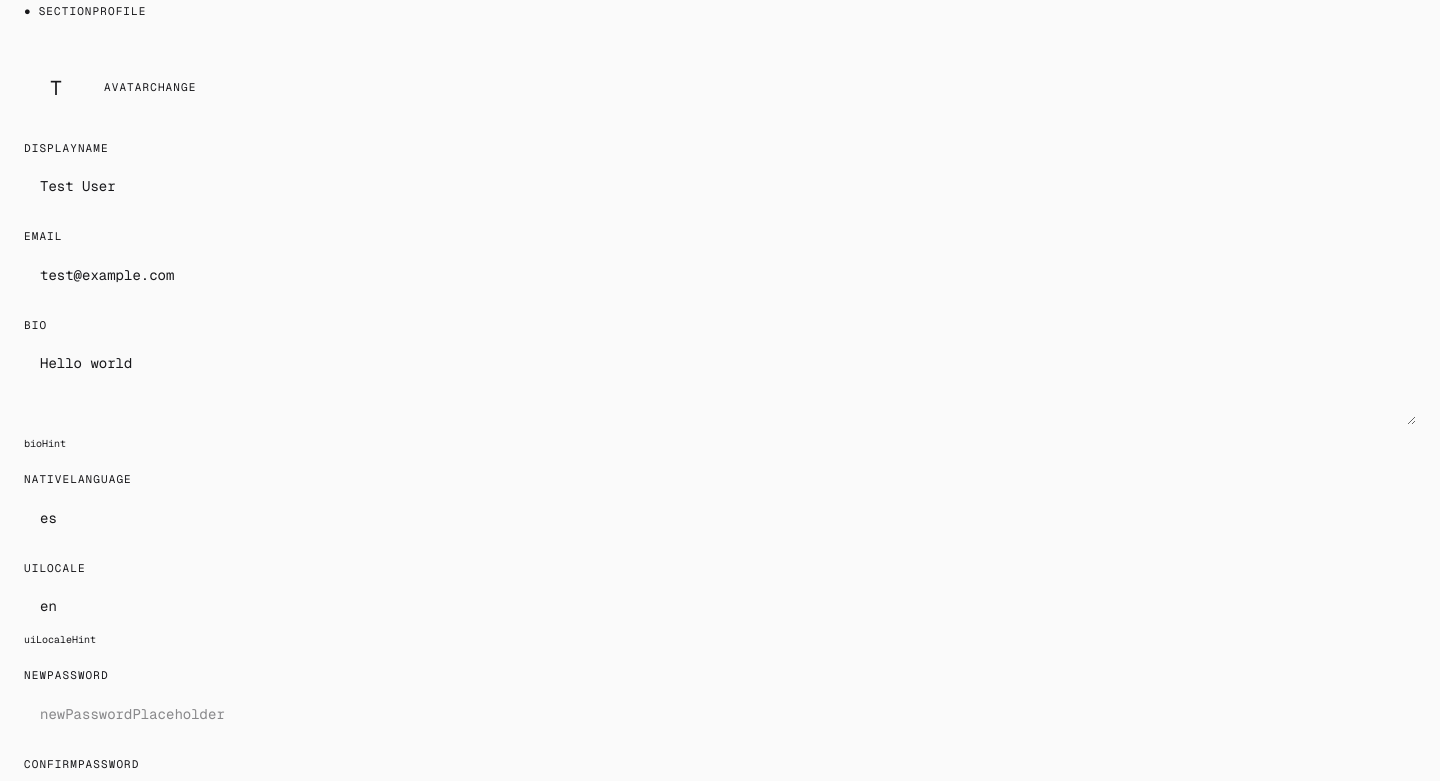
Test: ProfileSection › clears password fields after successful save
The image size is (1440, 781).
In the password field with placeholder "newPasswordPlaceholder": (720, 714) [24,692,1416,736], type "secret123"
(page scrolled)
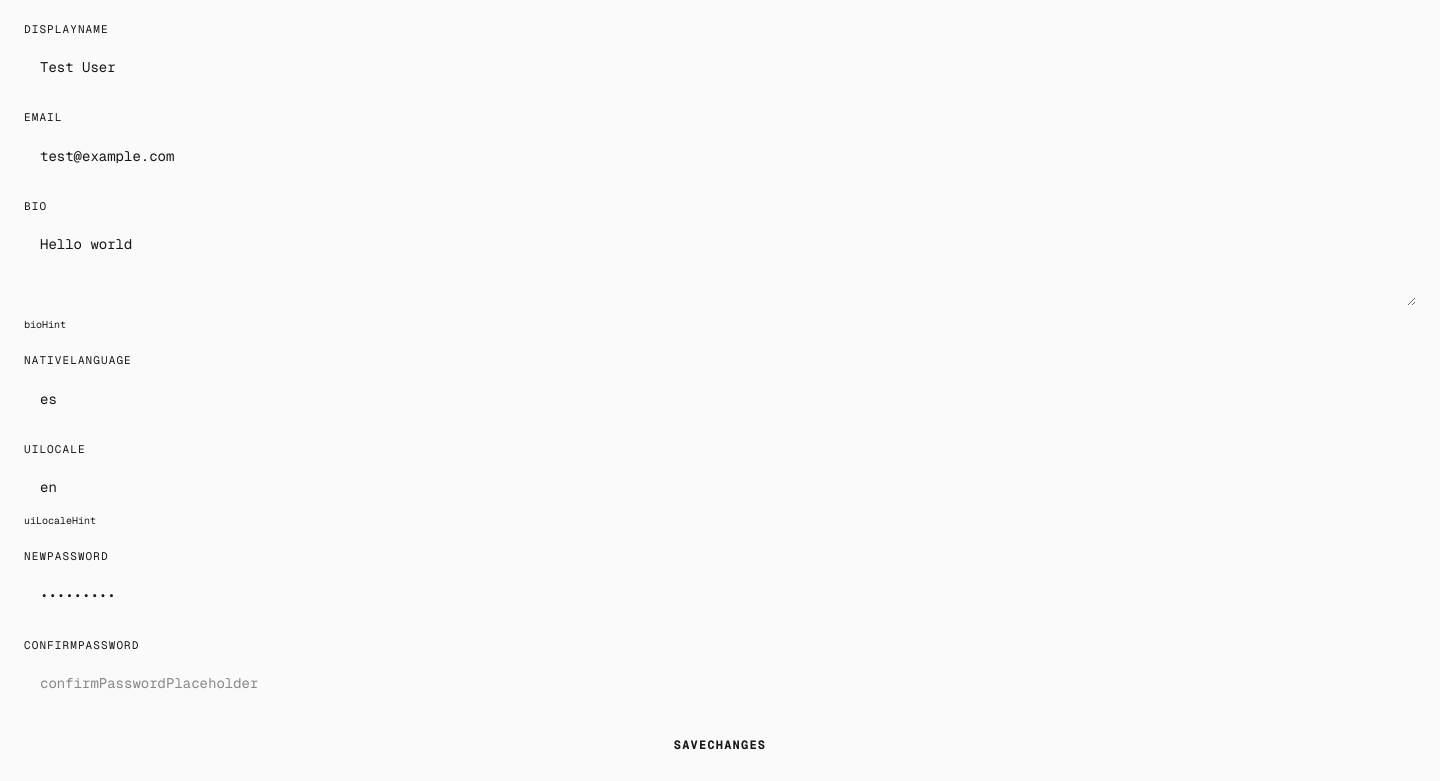
In the password field with placeholder "confirmPasswordPlaceholder": (720, 683) [24,661,1416,705], type "secret123"
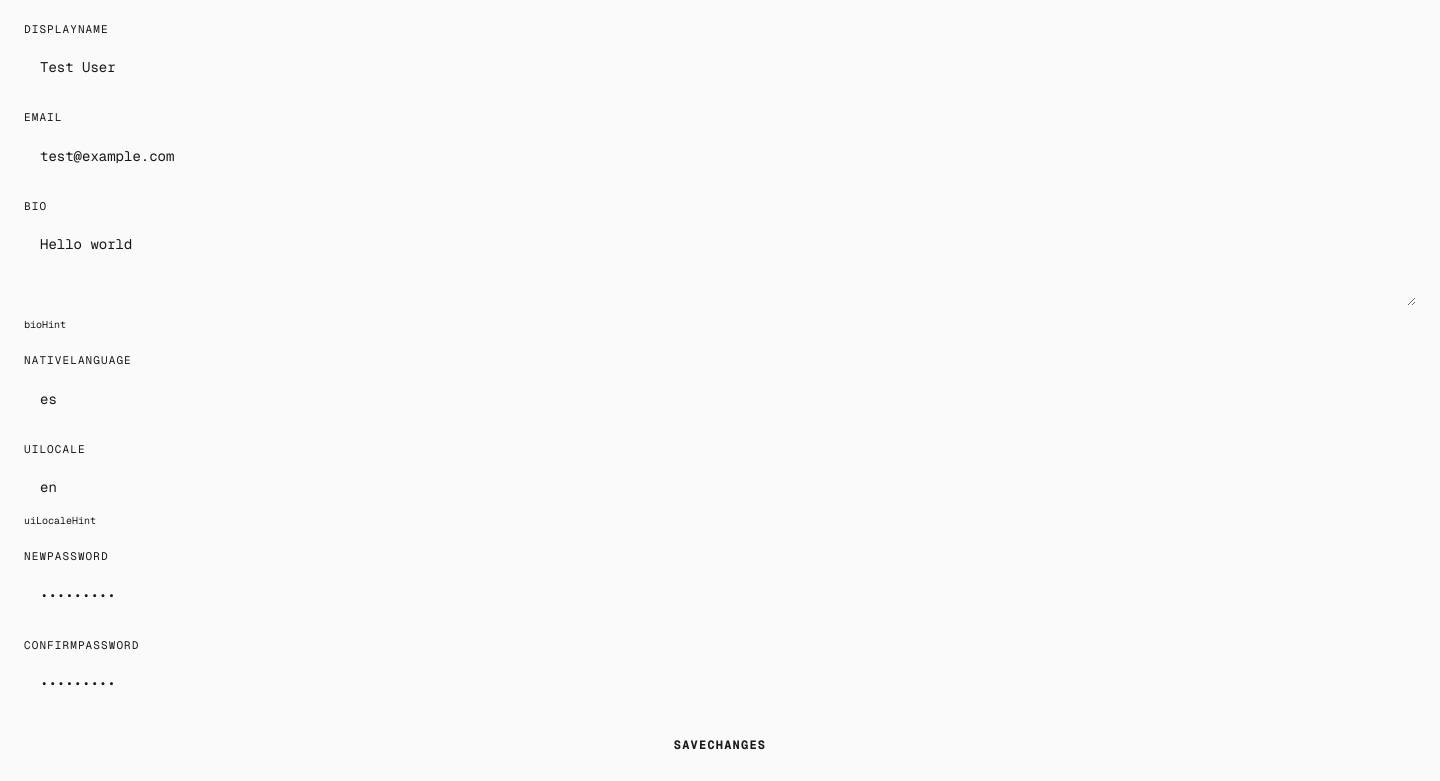
Click the button "saveChanges": (720, 745) [24,725,1416,765]
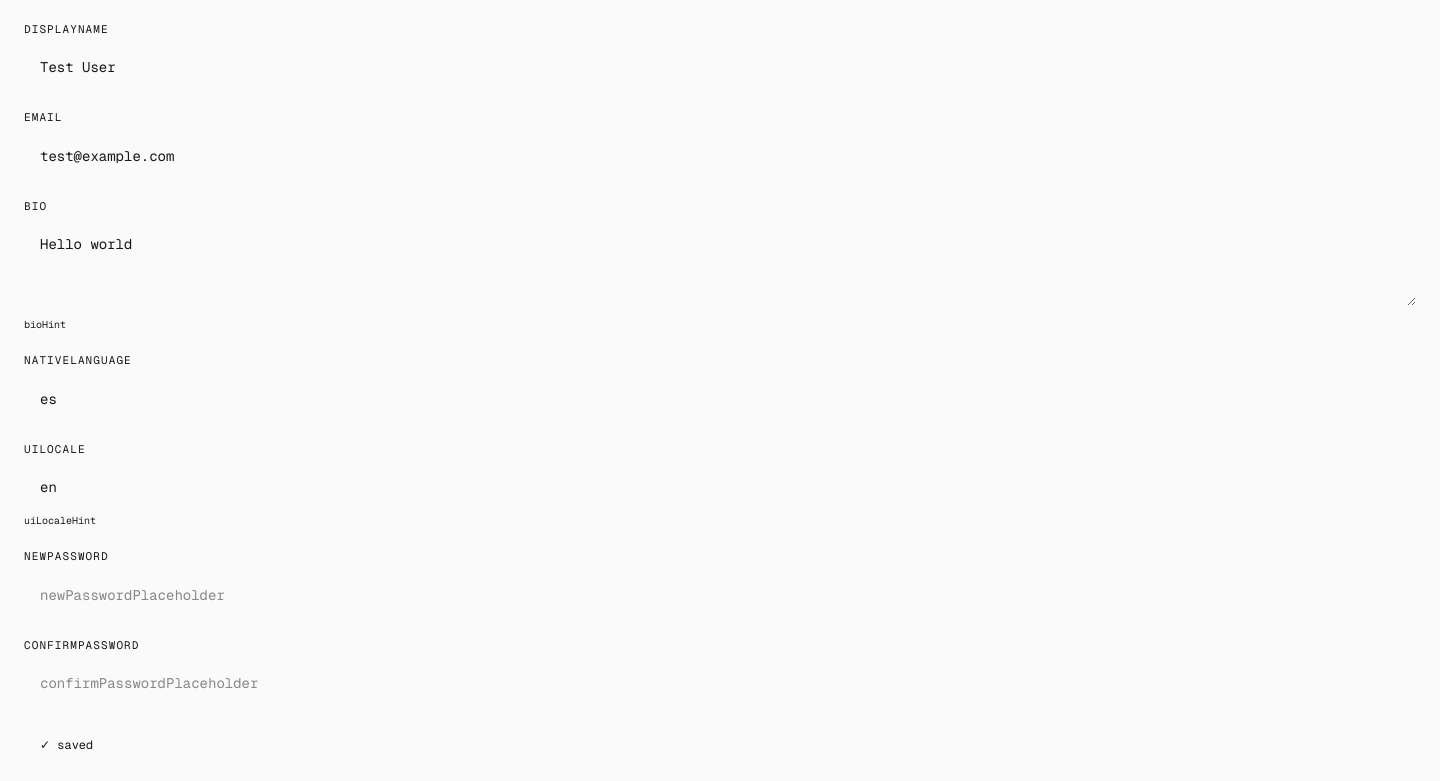
Check: the text "✓ saved" is shown, box [40,737,93,753]
Check: the password field with placeholder "newPasswordPlaceholder" is empty, box [24,572,1416,616]
Check: the password field with placeholder "confirmPasswordPlaceholder" is empty, box [24,661,1416,705]
